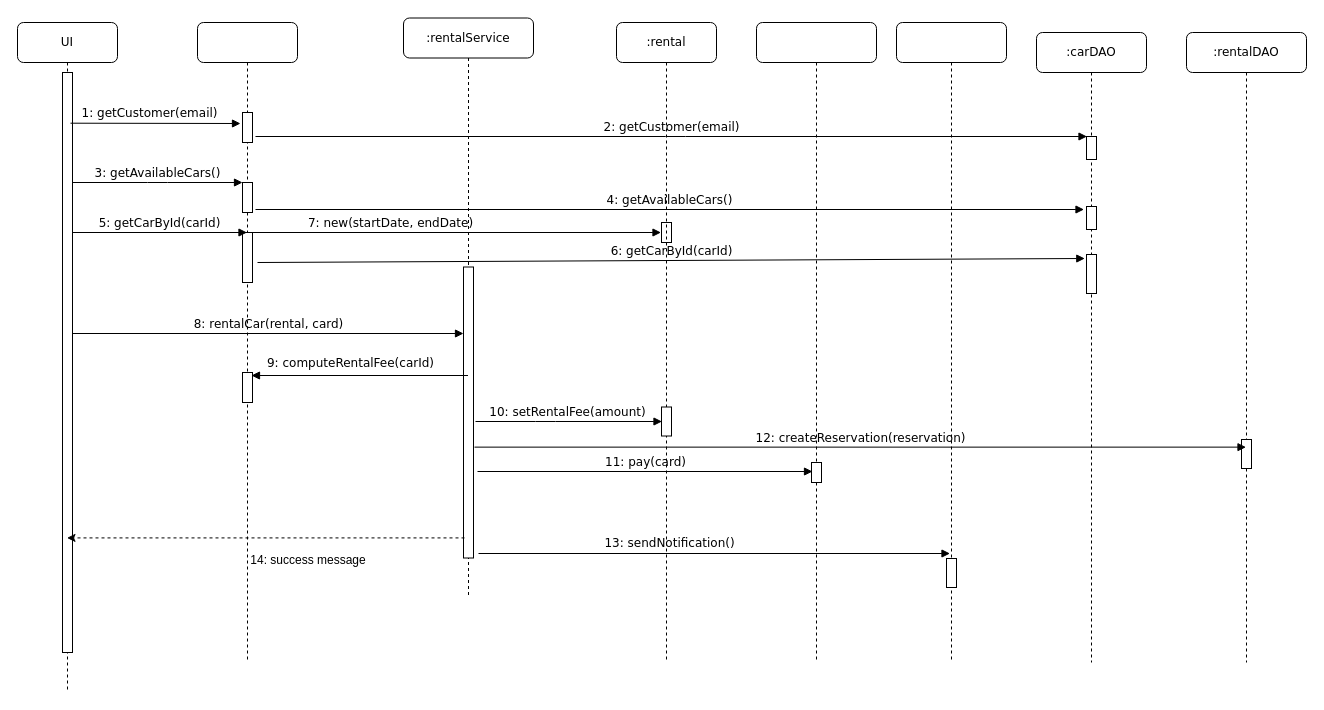
Image size: 1324x710. Some labels were removed from this diagram. The shapes that lost their labels are listed below. From the top down, each one's box as (x1, y1, x2, y2) in pixels, then its label:
(196, 22, 298, 662): :carService
(756, 22, 876, 662): :paymentService
(896, 22, 1006, 662): :emailService
